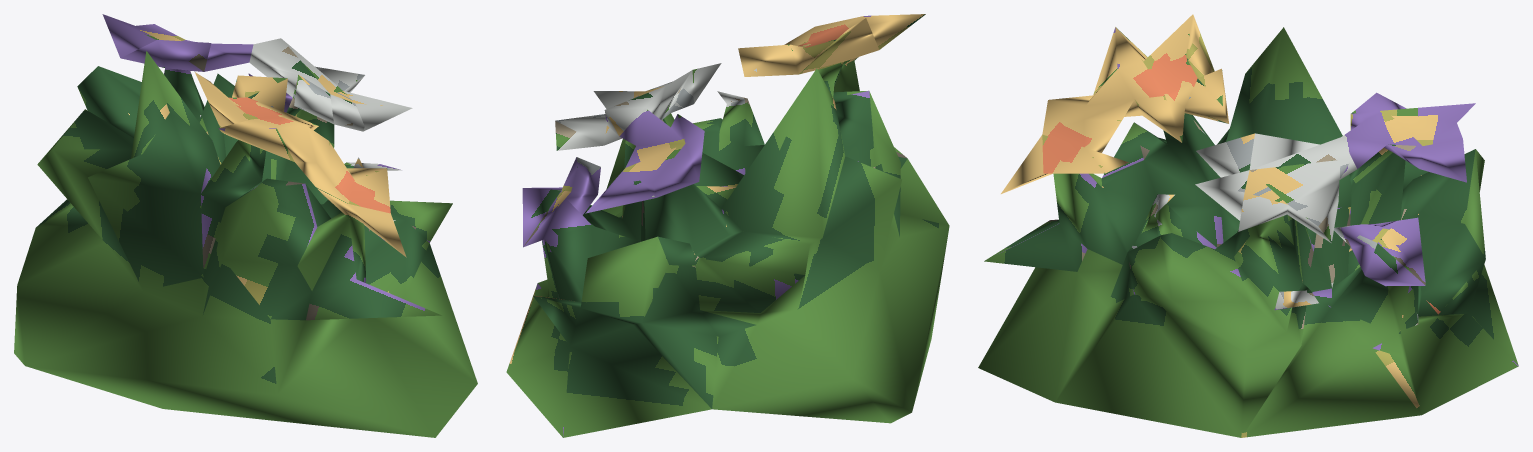
The model's file is flowers.glb.
The picture shows the model from 3 angles, left to right: view 1: azimuth 30°, elevation 25°; view 2: azimuth 150°, elevation 25°; view 3: azimuth 270°, elevation 25°; orthographic projection. The views are drawn at different scales.
Parts seen in each view (by area): view 1: tripo_node_c735143c-9aee-4045-ba44-2e7c4cd4bfa8; view 2: tripo_node_c735143c-9aee-4045-ba44-2e7c4cd4bfa8; view 3: tripo_node_c735143c-9aee-4045-ba44-2e7c4cd4bfa8.
Part boxes in pixels (<box>): tripo_node_c735143c-9aee-4045-ba44-2e7c4cd4bfa8: <box>14,14,477,437</box>; tripo_node_c735143c-9aee-4045-ba44-2e7c4cd4bfa8: <box>506,14,949,437</box>; tripo_node_c735143c-9aee-4045-ba44-2e7c4cd4bfa8: <box>978,14,1518,437</box>.
Bounding box in the file's own units: 0.704 × 0.5466 × 0.9061.
1 material, 1 textured.
